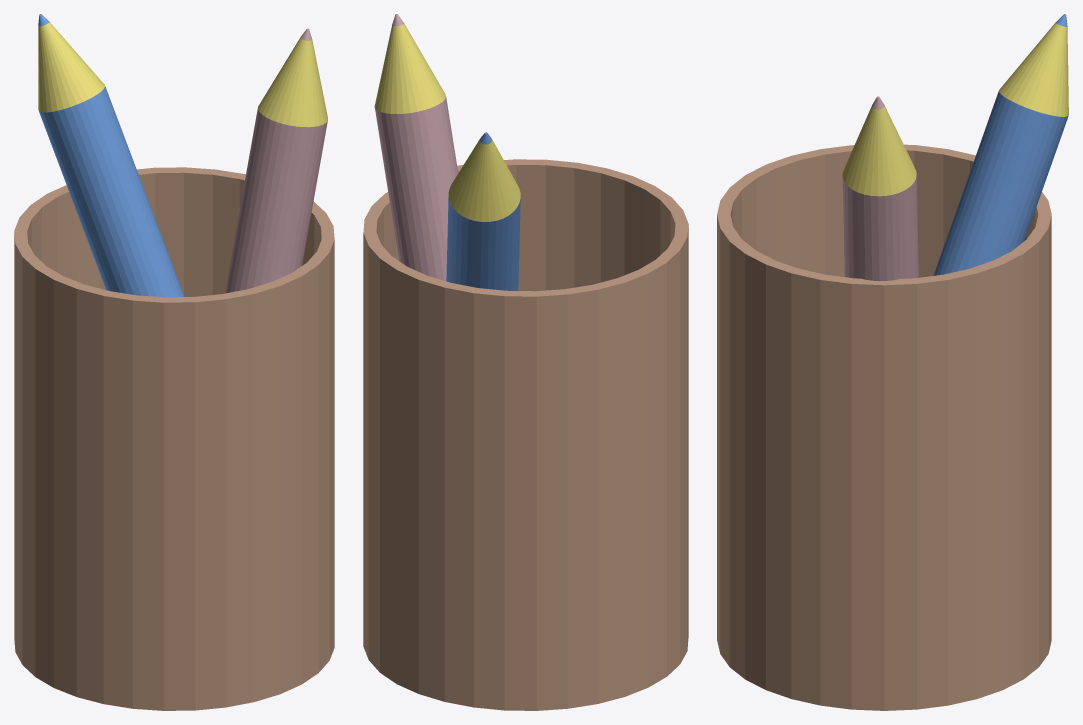
Rendered from lapicero.glb.
The picture shows the model from 3 angles, left to right: view 1: azimuth 30°, elevation 25°; view 2: azimuth 150°, elevation 25°; view 3: azimuth 270°, elevation 25°; orthographic projection. The views are drawn at different scales.
Visible parts, largest first — view 1: Cylinder.007, Cylinder.009, Cylinder.008; view 2: Cylinder.007, Cylinder.008, Cylinder.009; view 3: Cylinder.007, Cylinder.009, Cylinder.008.
Part boxes in pixels (x1=…): Cylinder.007: x1=14, y1=167, x2=334, y2=710; Cylinder.009: x1=38, y1=14, x2=184, y2=297; Cylinder.008: x1=225, y1=28, x2=327, y2=293; Cylinder.007: x1=363, y1=159, x2=688, y2=710; Cylinder.008: x1=374, y1=14, x2=458, y2=281; Cylinder.009: x1=446, y1=132, x2=520, y2=290; Cylinder.007: x1=717, y1=144, x2=1051, y2=710; Cylinder.009: x1=933, y1=14, x2=1068, y2=275; Cylinder.008: x1=842, y1=96, x2=918, y2=281.
Size of the model in its own units: 0.5053 by 1 by 0.5172.
